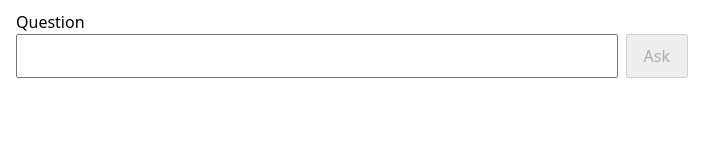
Test: AskForm › shows a string error detail
The width and height of the screenshot is (705, 160).
In the field labelled "Question": (317, 56) [16,34,618,78], type "What is alpha?"
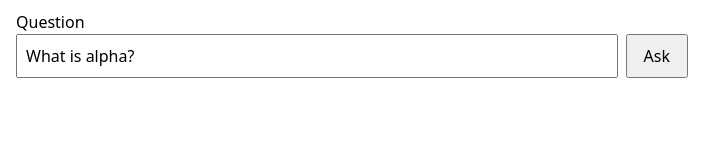
Click the button "Ask": (657, 56) [626,34,688,78]
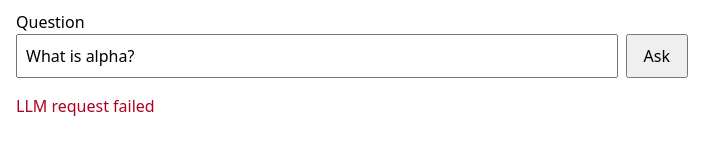
Check: the button "Ask" is enabled, box [626,34,688,78]
Check: the message reads "LLM request failed", box [16,95,155,117]
